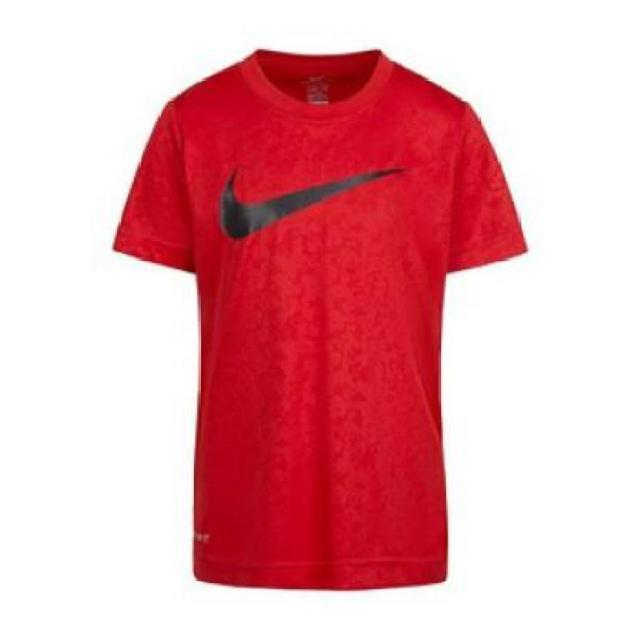Nike: (219, 167, 405, 238)
